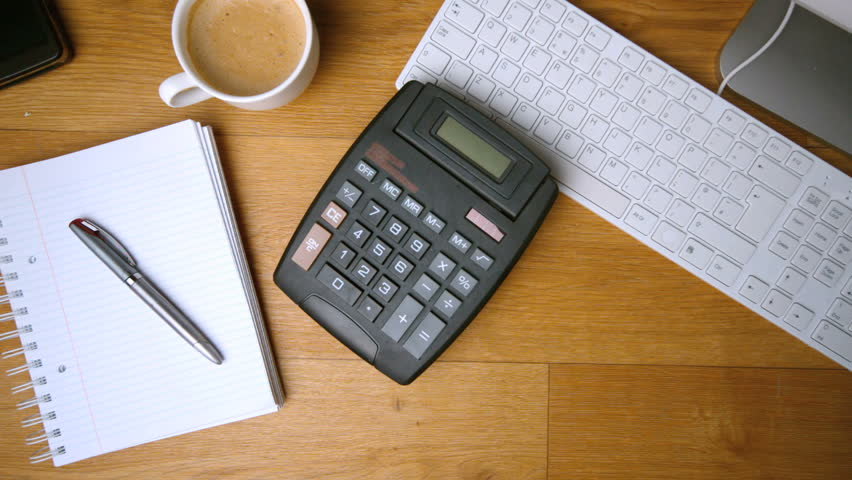Calculator: (266, 85, 564, 387)
